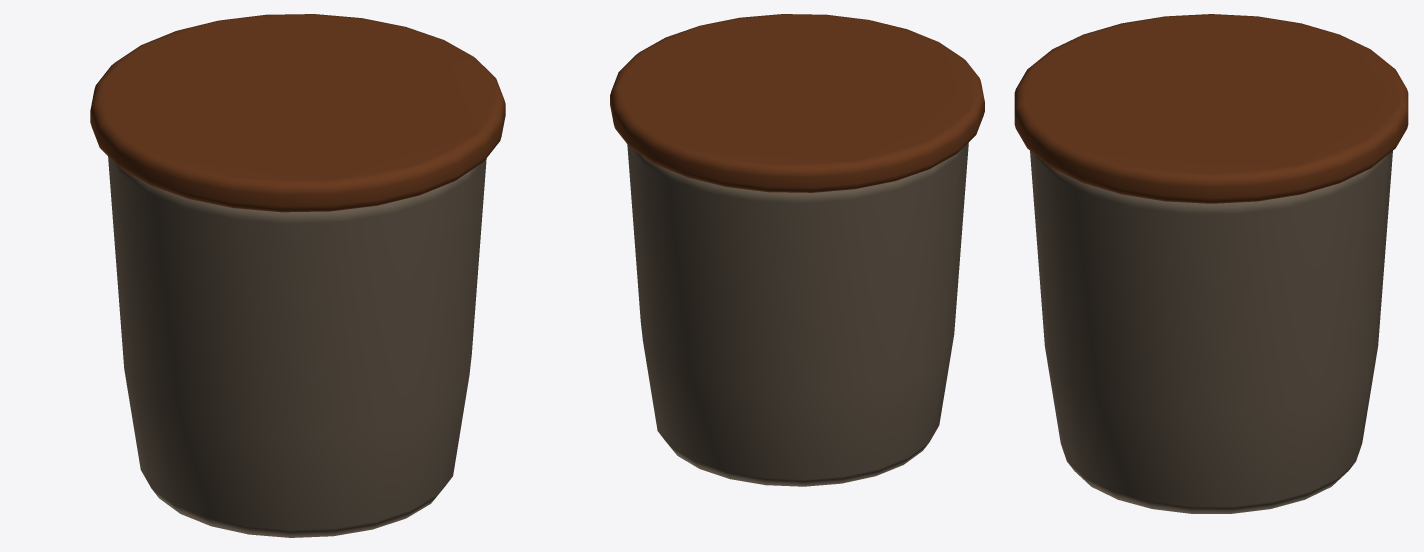
The model's file is side-table-lod1.glb.
3 views of the same model, side by side, from view 1: azimuth 30°, elevation 25°; view 2: azimuth 150°, elevation 25°; view 3: azimuth 270°, elevation 25° (orthographic). The views are drawn at different scales.
Visible parts, largest first — view 1: Warm cast concrete, Oiled teak; view 2: Warm cast concrete, Oiled teak; view 3: Warm cast concrete, Oiled teak.
Part boxes in pixels (<box>): Warm cast concrete: <box>108,156,486,537</box>; Oiled teak: <box>90,14,505,212</box>; Warm cast concrete: <box>627,142,968,486</box>; Oiled teak: <box>610,14,984,192</box>; Warm cast concrete: <box>1030,151,1392,513</box>; Oiled teak: <box>1014,14,1408,203</box>.
Size of the model in its own units: 0.508 by 0.508 by 0.508.
